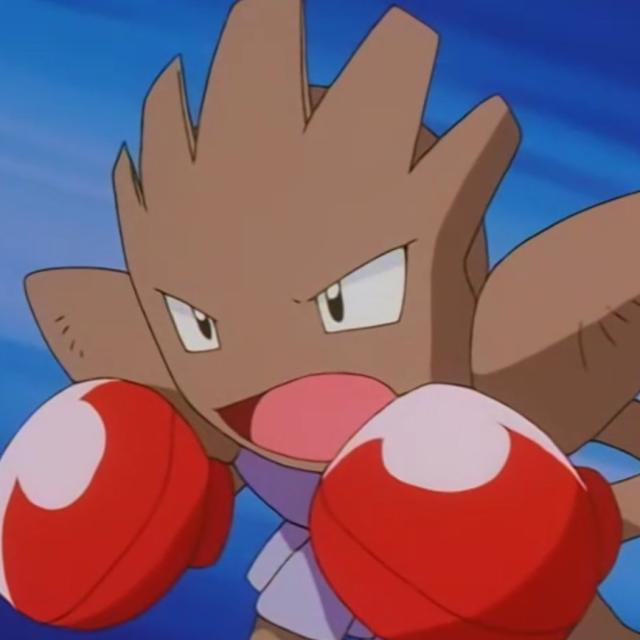Hitmonchan: (12, 0, 640, 640)
